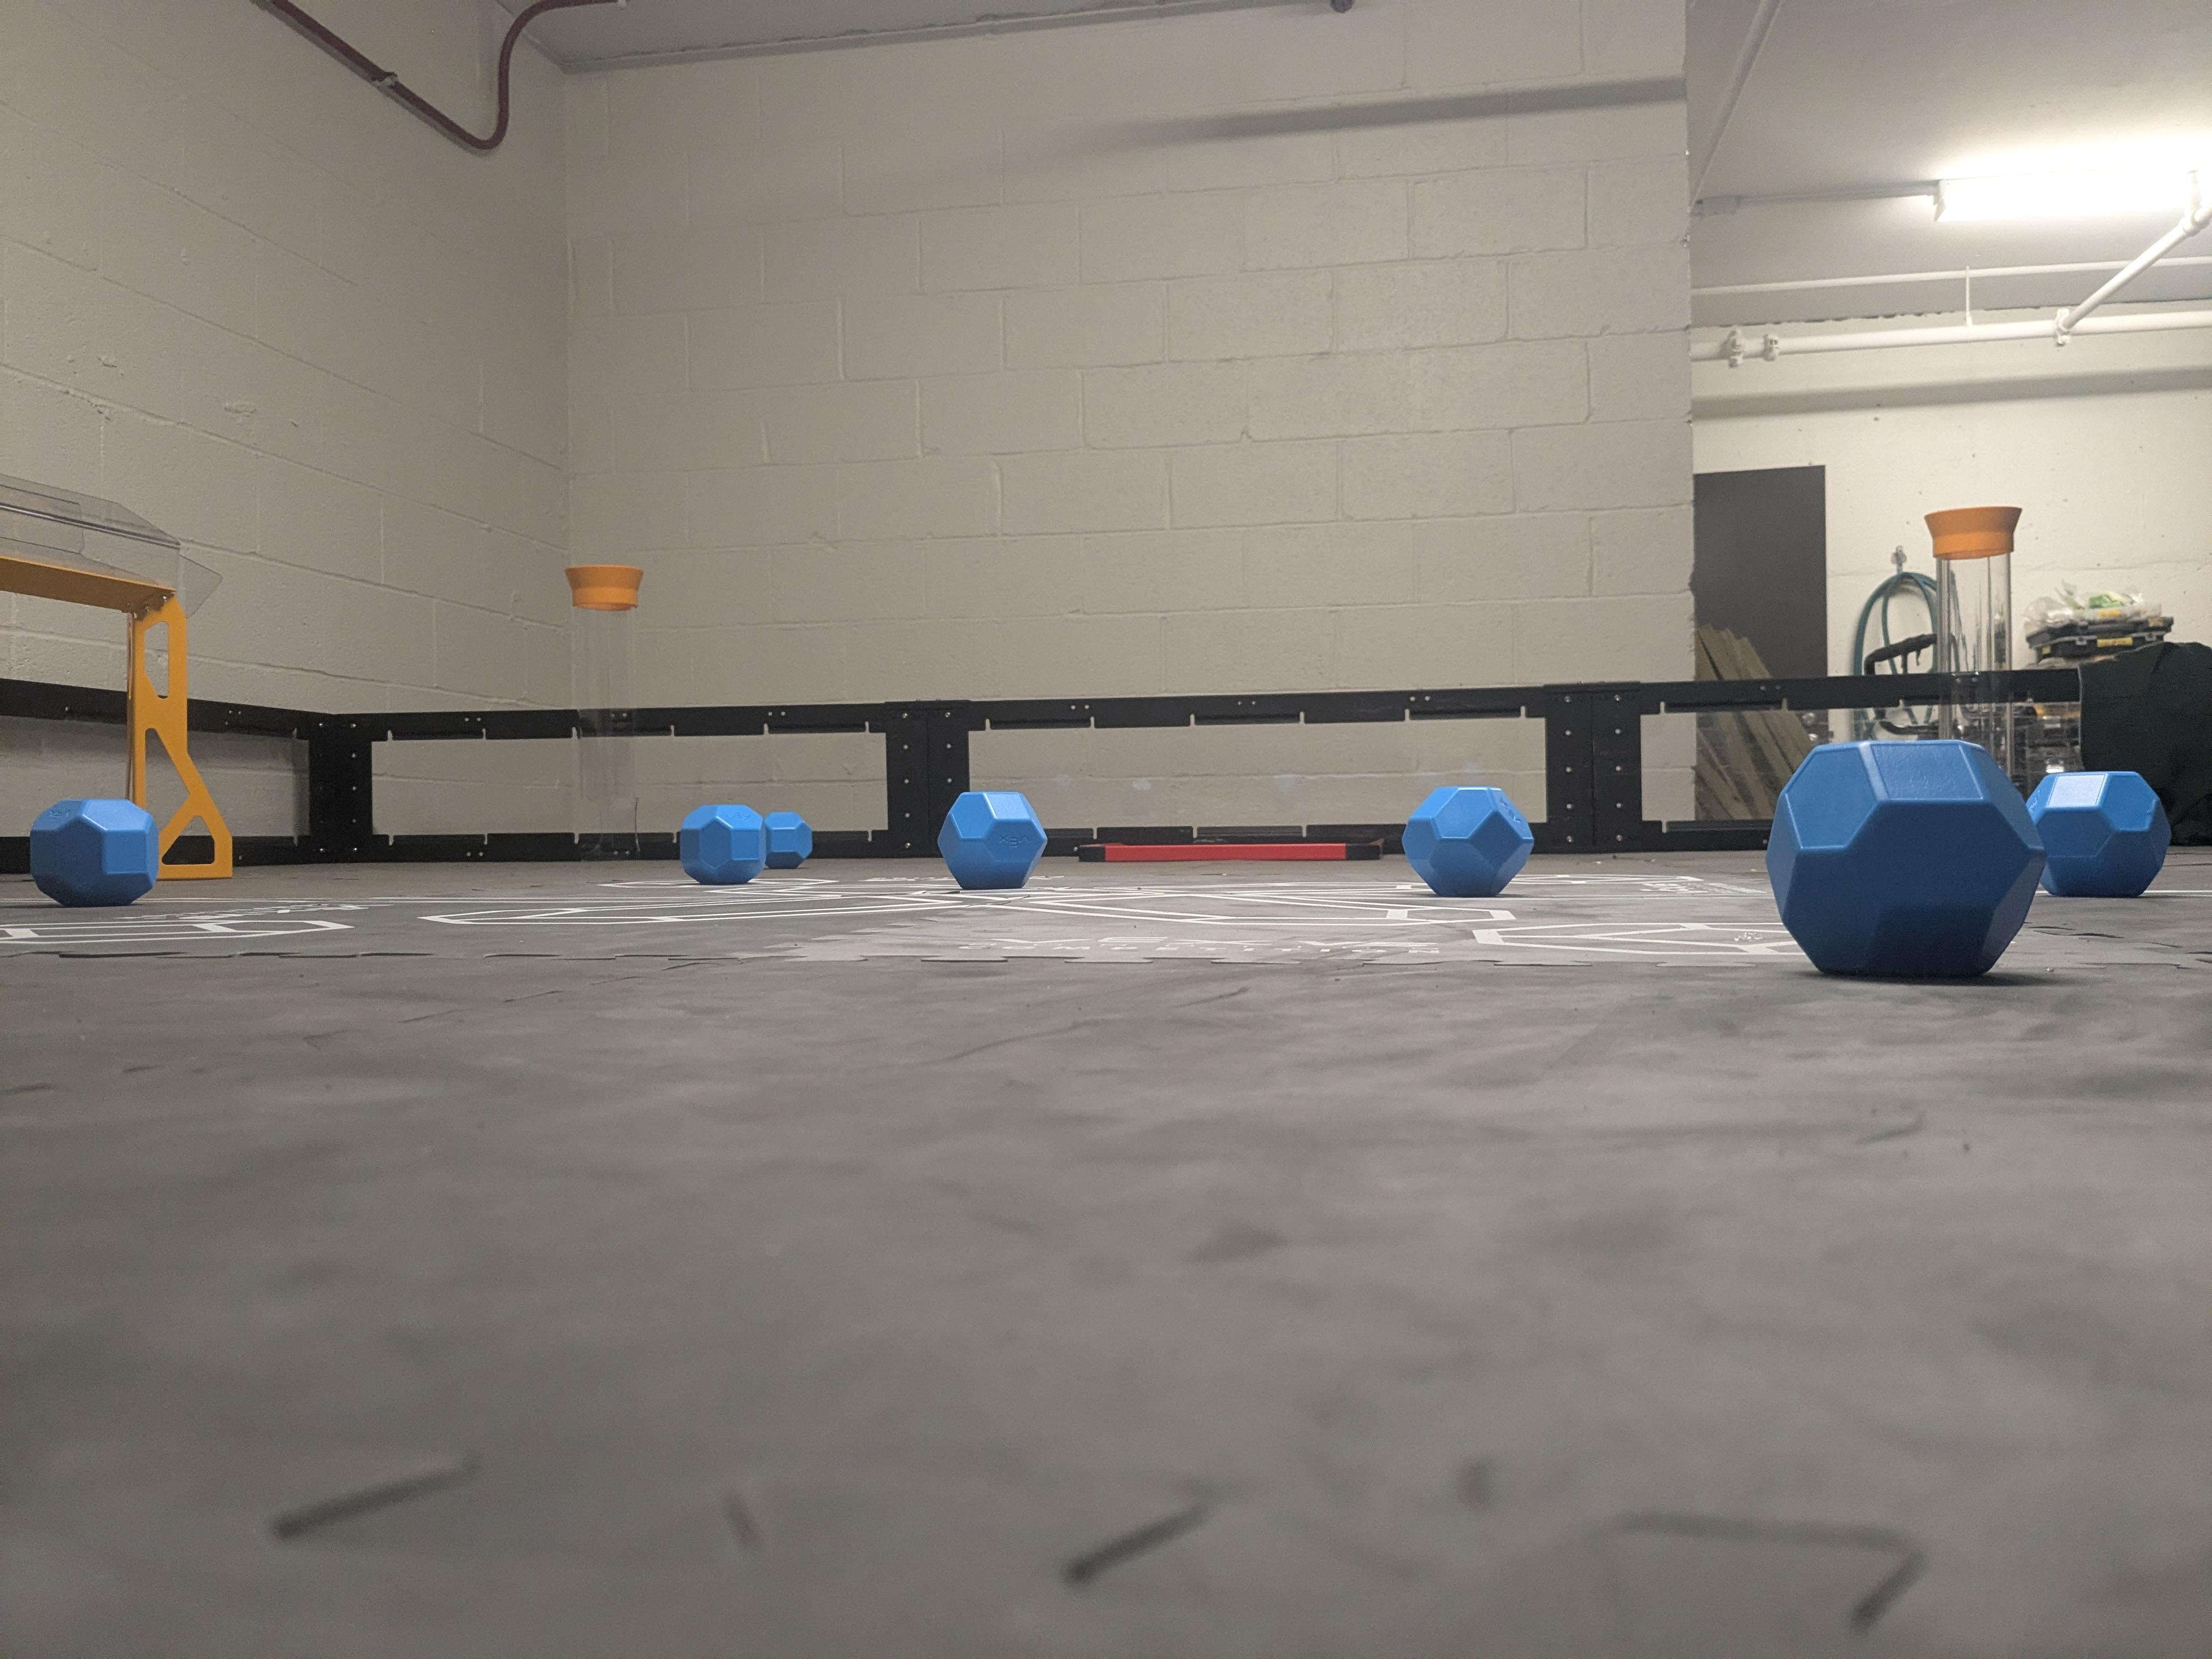Vex-Pieces-BLUE: (1766, 749, 2170, 979), (31, 798, 162, 906), (1402, 788, 1529, 894), (681, 805, 812, 880), (942, 789, 1043, 885)
